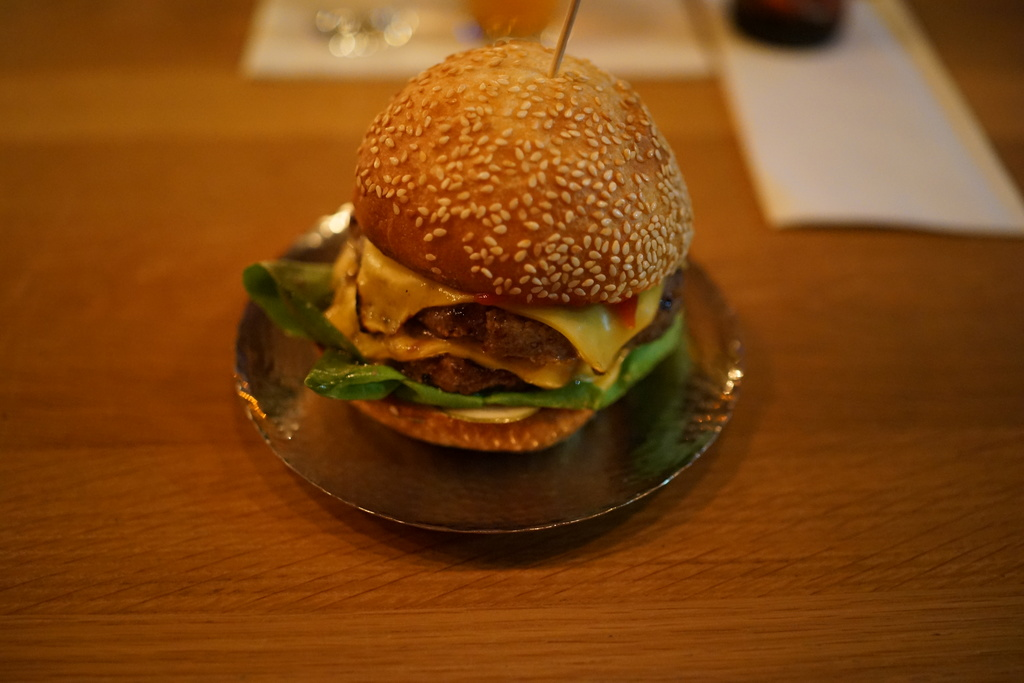Hamburger: (246, 39, 697, 451)
